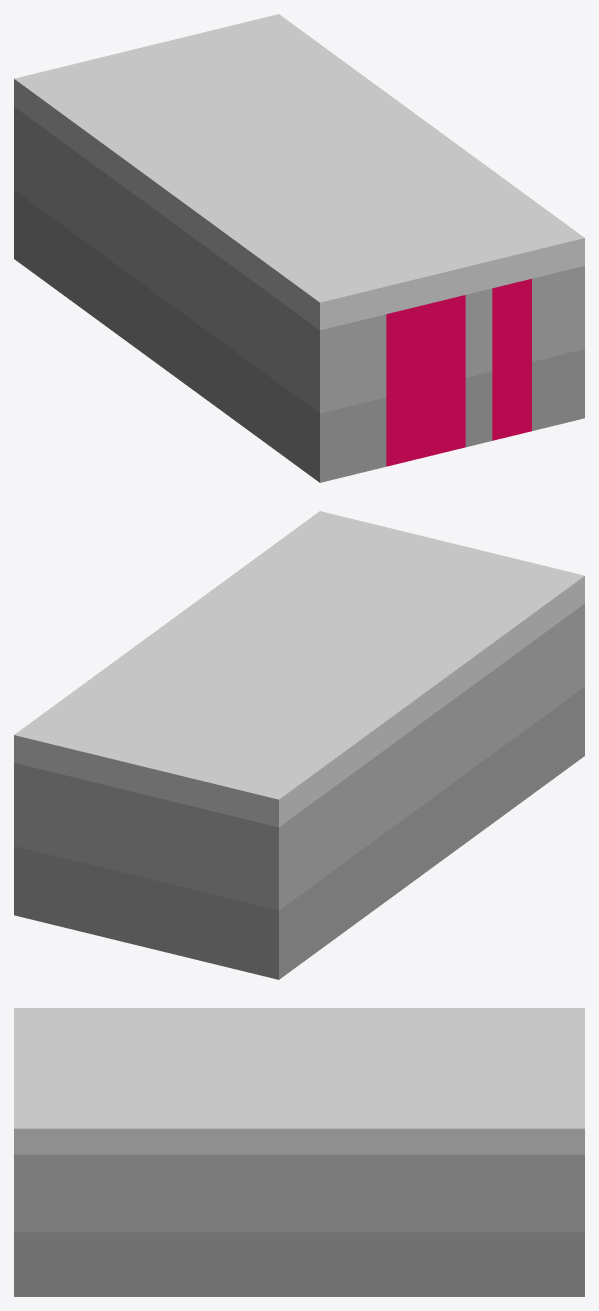
File: PuertaRightTecho.FBX
3 views of the same model, one above another, from view 1: azimuth 30°, elevation 25°; view 2: azimuth 150°, elevation 25°; view 3: azimuth 270°, elevation 25° (orthographic). The views are drawn at different scales.
Visible parts, largest first — view 1: PuertaRightTecho; view 2: PuertaRightTecho; view 3: PuertaRightTecho.
Boxes of the visible parts, left/top/right/bottom form: PuertaRightTecho: left=14, top=14, right=584, bottom=482; PuertaRightTecho: left=14, top=511, right=584, bottom=979; PuertaRightTecho: left=14, top=1008, right=584, bottom=1296.
Bounding box in the file's own units: 0.5 × 0.325 × 1.
1 material, 1 textured.
